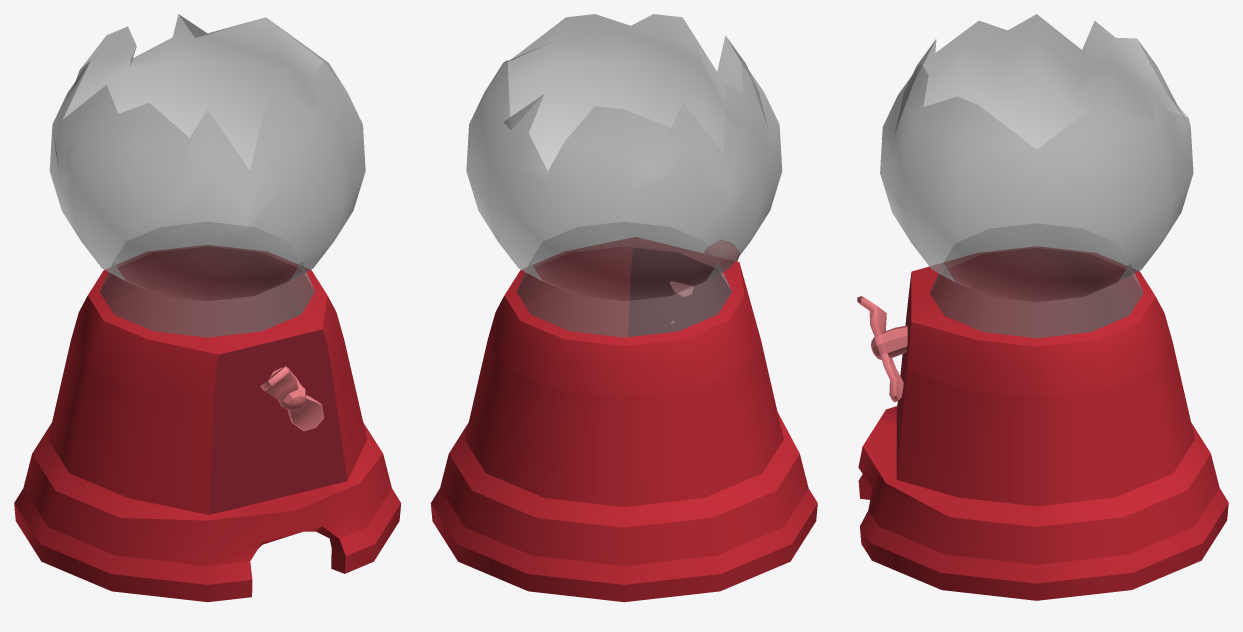
Rendered from BrokenGumballMachine.fbx.
The picture shows the model from 3 angles, left to right: view 1: azimuth 30°, elevation 25°; view 2: azimuth 150°, elevation 25°; view 3: azimuth 270°, elevation 25°; orthographic projection.
Visible parts, largest first — view 1: polySurface4; view 2: polySurface4; view 3: polySurface4.
Part boxes in pixels (left/top/right/bottom): polySurface4: left=14, top=14, right=401, bottom=602; polySurface4: left=430, top=14, right=817, bottom=602; polySurface4: left=857, top=14, right=1228, bottom=600.
Size of the model in its own units: 2.77 by 3.77 by 2.76.
